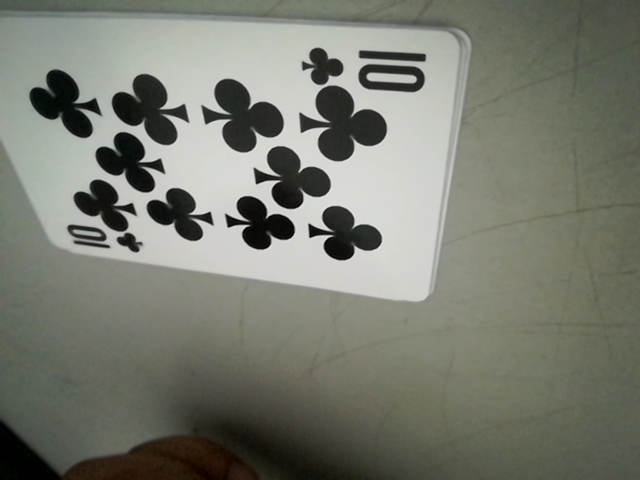mh 10: (299, 39, 440, 92), (60, 226, 148, 257)
